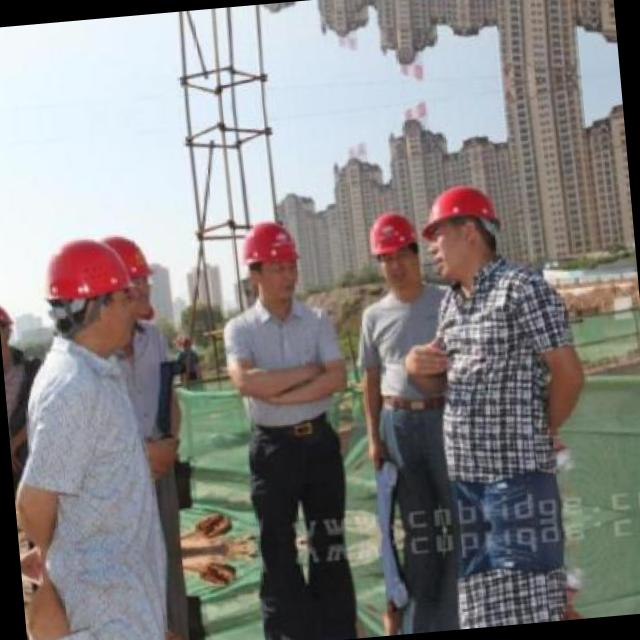helmet: (39, 230, 136, 354), (422, 178, 506, 282), (235, 216, 306, 312), (361, 205, 427, 296), (111, 232, 157, 326)
